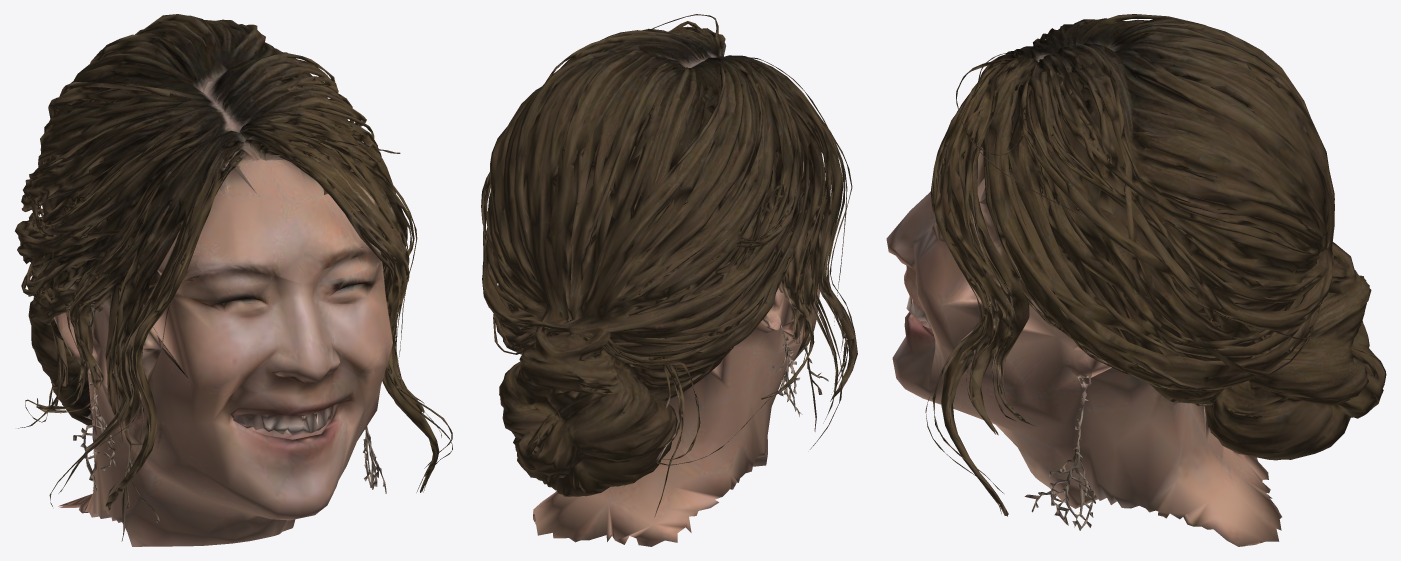
Rendered from head_jackie.glb.
The picture shows the model from 3 angles, left to right: view 1: azimuth 30°, elevation 25°; view 2: azimuth 150°, elevation 25°; view 3: azimuth 270°, elevation 25°; orthographic projection. The views are drawn at different scales.
Parts seen in each view (by area): view 1: Mesh_0; view 2: Mesh_0; view 3: Mesh_0.
Boxes of the visible parts, bbox=[...] form: Mesh_0: bbox=[15, 14, 452, 546]; Mesh_0: bbox=[481, 14, 857, 546]; Mesh_0: bbox=[886, 14, 1386, 546].
Size of the model in its own units: 1.1 by 1.57 by 1.46.
1 material, 1 textured.
